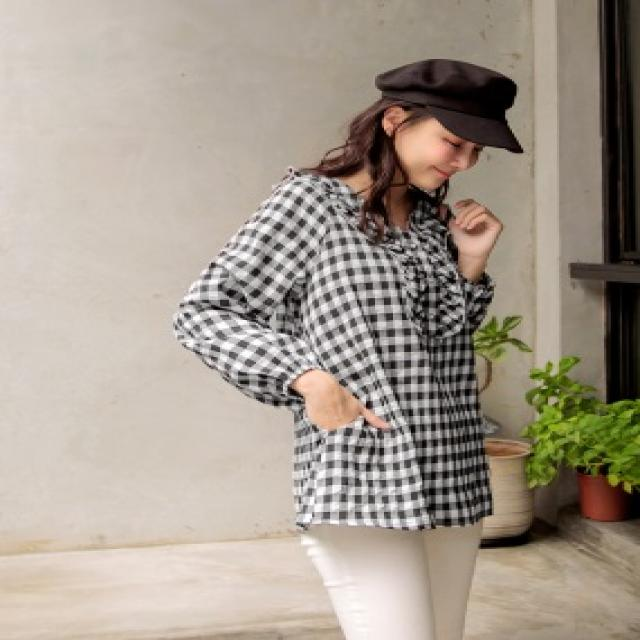plaid: (162, 164, 514, 546)
